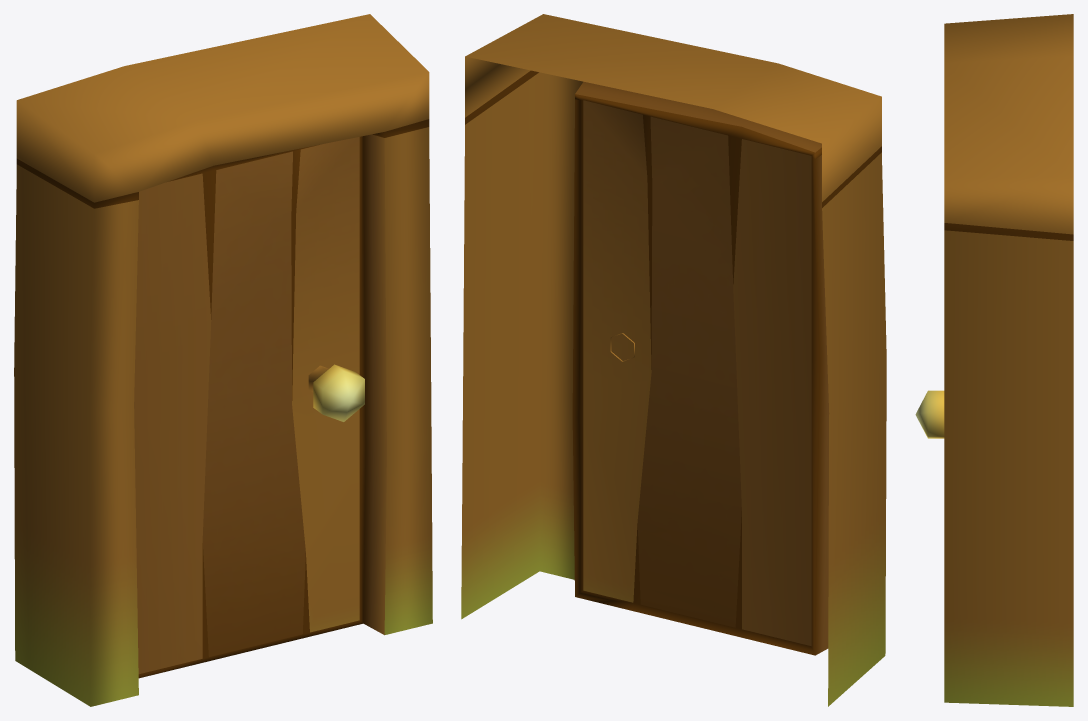
The model's file is door.fbx.
The picture shows the model from 3 angles, left to right: view 1: azimuth 30°, elevation 25°; view 2: azimuth 150°, elevation 25°; view 3: azimuth 270°, elevation 25°; orthographic projection. The views are drawn at different scales.
Parts seen in each view (by area): view 1: door; view 2: door; view 3: door.
Part boxes in pixels (box(x1,y1,x2,y2)): door: box(14, 14, 432, 706); door: box(461, 14, 886, 706); door: box(915, 14, 1073, 706).
Size of the model in its own units: 152 by 227 by 60.87.
